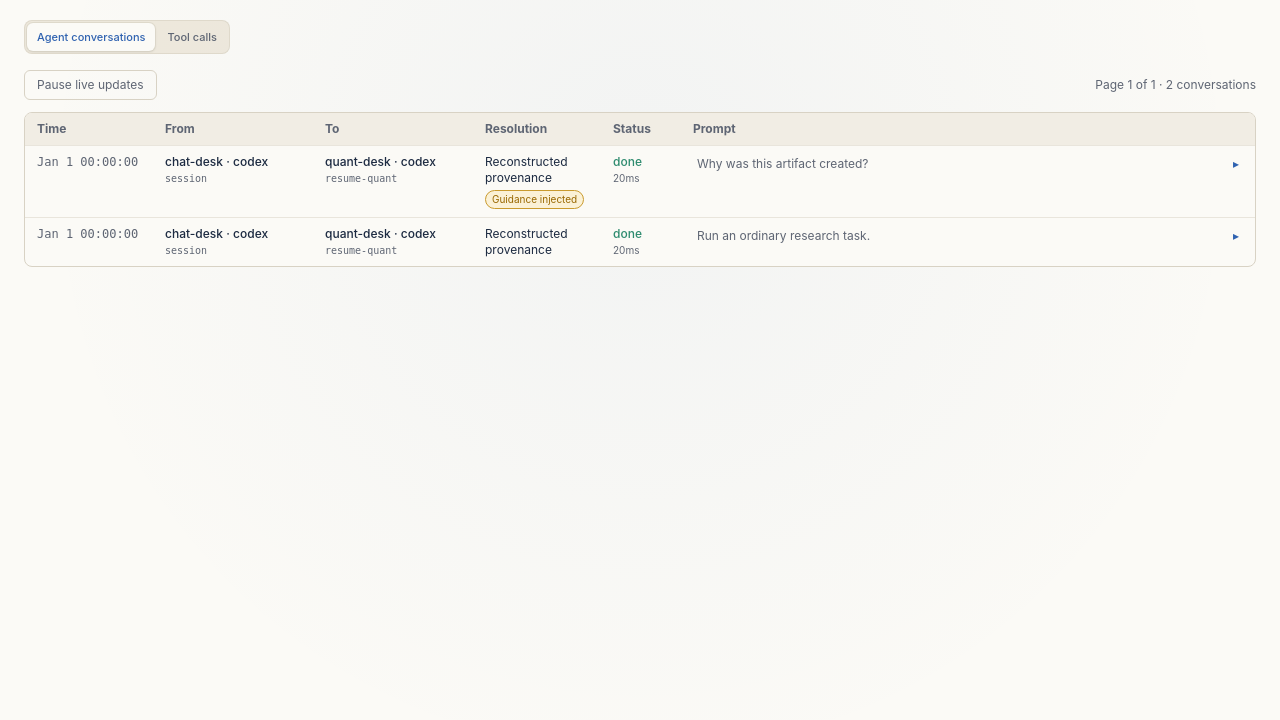
Test: LogsPage Agent conversations › shows joined routing and keeps provenance separate from prompt injection
The image size is (1280, 720).
Check: the text "Page 1 of 1 · 2 conversations" is shown, box [1095,77,1256,93]
Check: the text "Reconstructed provenance" is shown 2 times, box [485,154,568,185]; [485,226,568,257]
Click the button "Run an ordinary research task. ▸". click: [784, 236]
box: [693,226,1243,246]
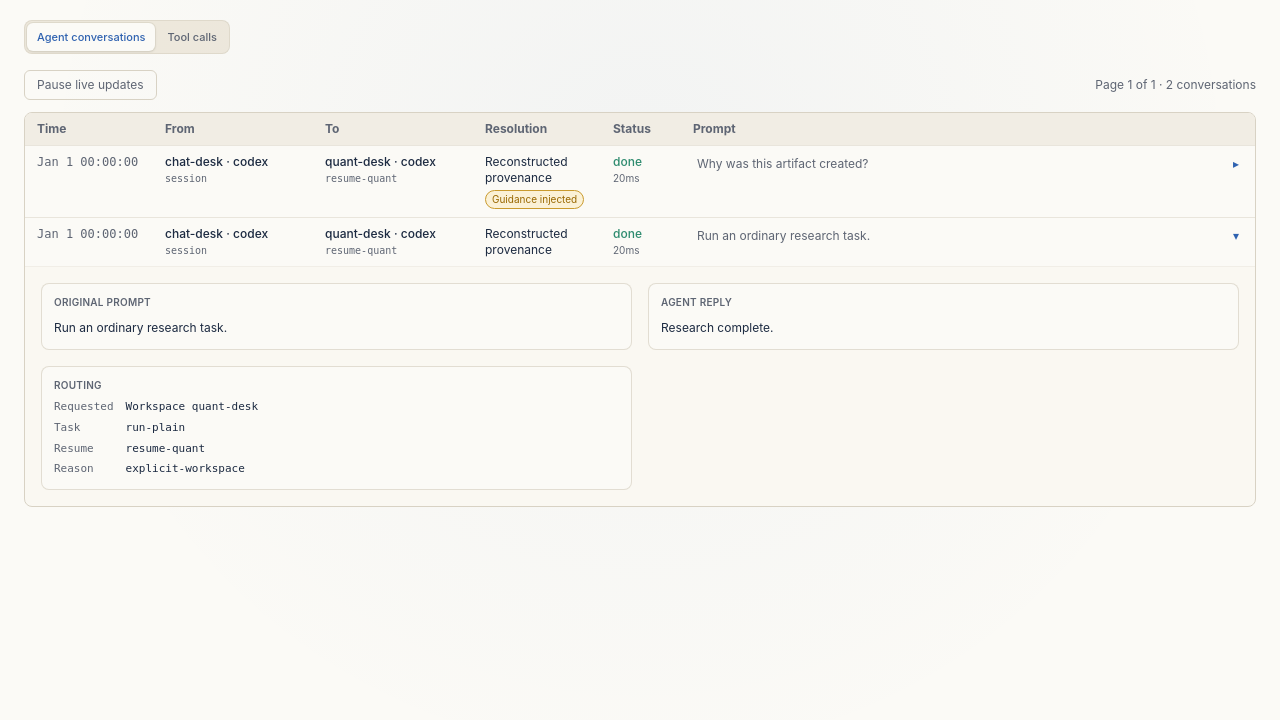
Check: the heading "Original prompt" is shown, box [54,296,151,308]
Check: the text "Research complete." is shown, box [661,320,774,335]
